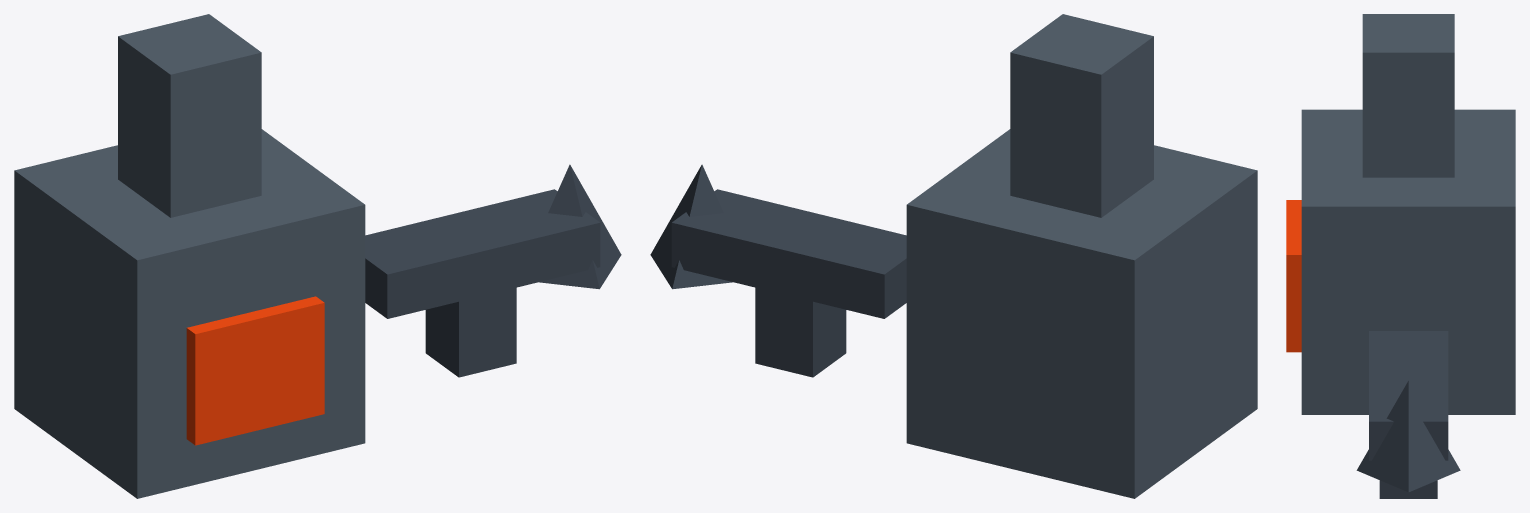
Rendered from forge.obj.
3 renders of one model, left to right at view 1: azimuth 30°, elevation 25°; view 2: azimuth 150°, elevation 25°; view 3: azimuth 270°, elevation 25°, orthographic. The views are drawn at different scales.
Visible parts, largest first — view 1: models/environment/forge.obj; view 2: models/environment/forge.obj; view 3: models/environment/forge.obj.
Part boxes in pixels (x1,y1,x2,y2): models/environment/forge.obj: [14, 14, 621, 498]; models/environment/forge.obj: [650, 14, 1257, 498]; models/environment/forge.obj: [1286, 14, 1515, 498].
Size of the model in its own units: 3.59 by 2.41 by 1.5.
